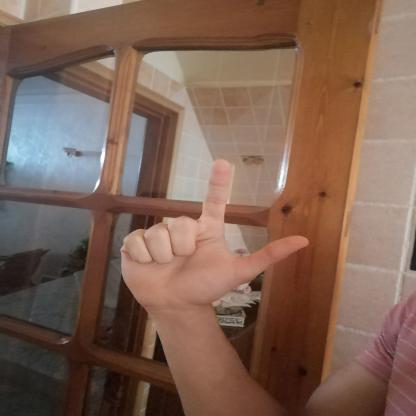LAAM: (102, 151, 322, 321)
